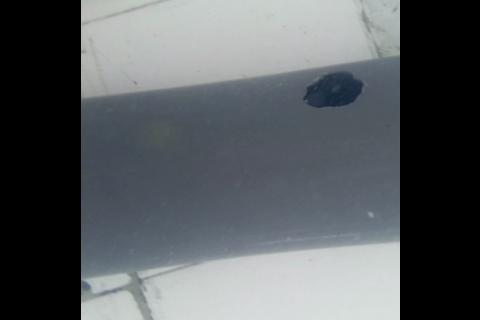kebocoran: (300, 69, 364, 110)
